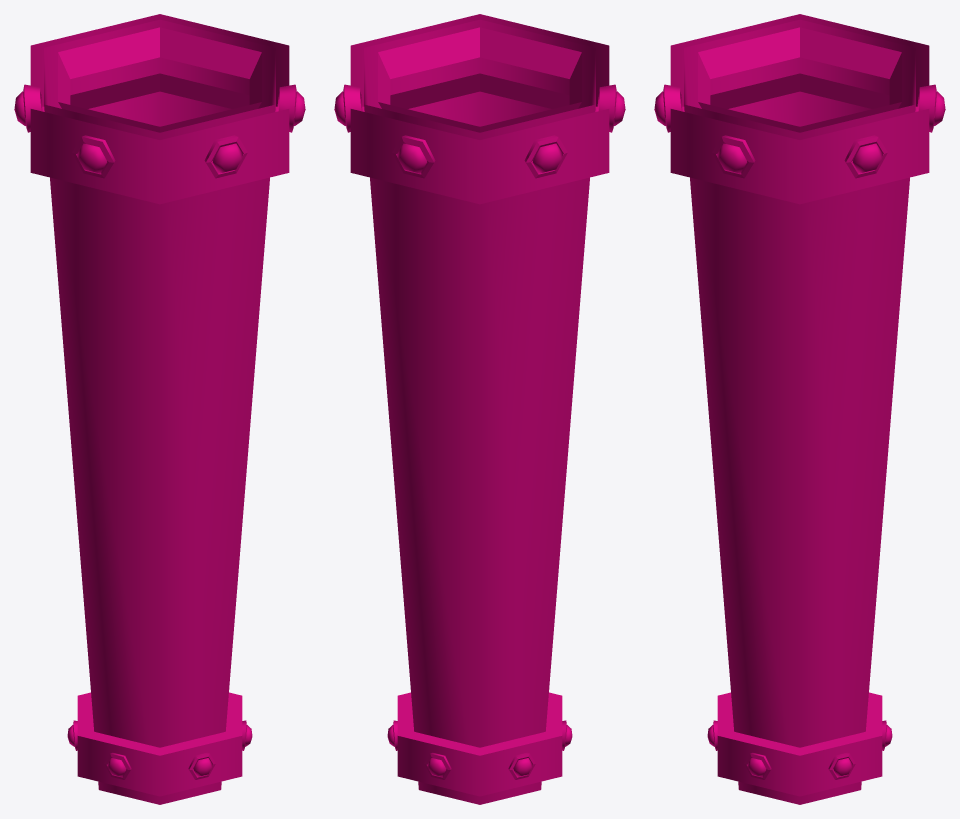
File: Mod_Carousel_Tournique.FBX
The picture shows the model from 3 angles, left to right: view 1: azimuth 30°, elevation 25°; view 2: azimuth 150°, elevation 25°; view 3: azimuth 270°, elevation 25°; orthographic projection.
Visible parts, largest first — view 1: MOD_Carousel_Tournique; view 2: MOD_Carousel_Tournique; view 3: MOD_Carousel_Tournique.
Part boxes in pixels (left/top/right/bottom): MOD_Carousel_Tournique: left=14, top=14, right=305, bottom=804; MOD_Carousel_Tournique: left=334, top=14, right=625, bottom=804; MOD_Carousel_Tournique: left=654, top=14, right=945, bottom=804.
Bounding box in the file's own units: 3.24 × 8.37 × 3.16.
